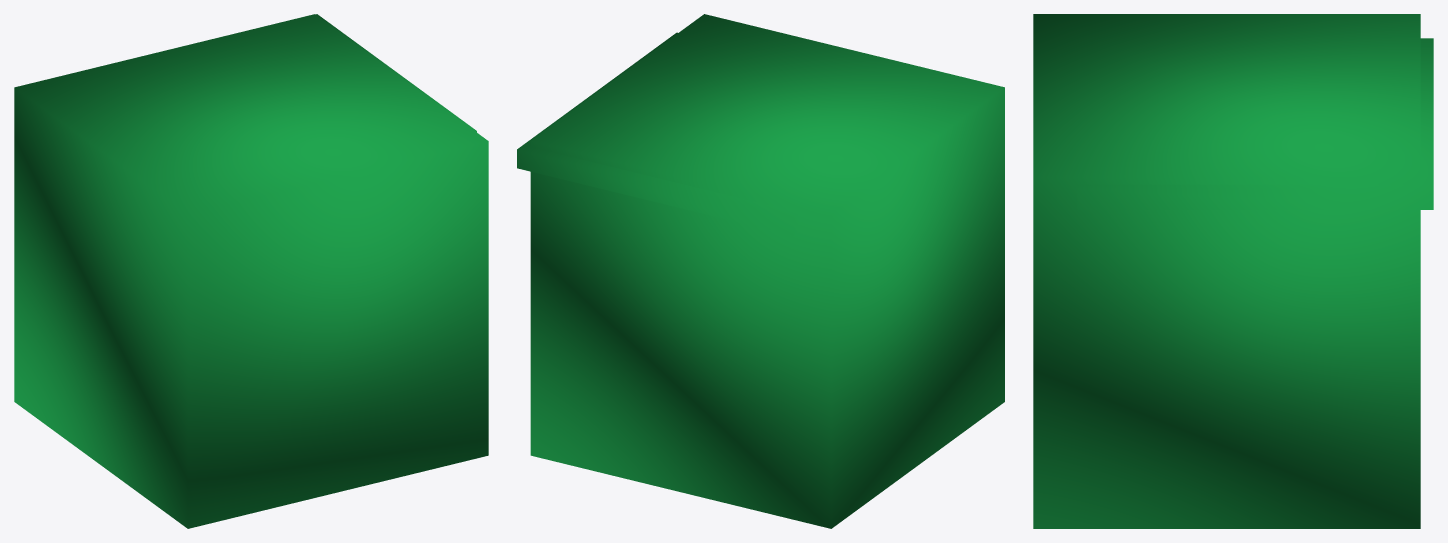
Rendered from ps2_jrpg_overworld_meadow_flower_cluster.obj.
The picture shows the model from 3 angles, left to right: view 1: azimuth 30°, elevation 25°; view 2: azimuth 150°, elevation 25°; view 3: azimuth 270°, elevation 25°; orthographic projection. The views are drawn at different scales.
Size of the model in its own units: 1.03 by 1 by 1.03.
